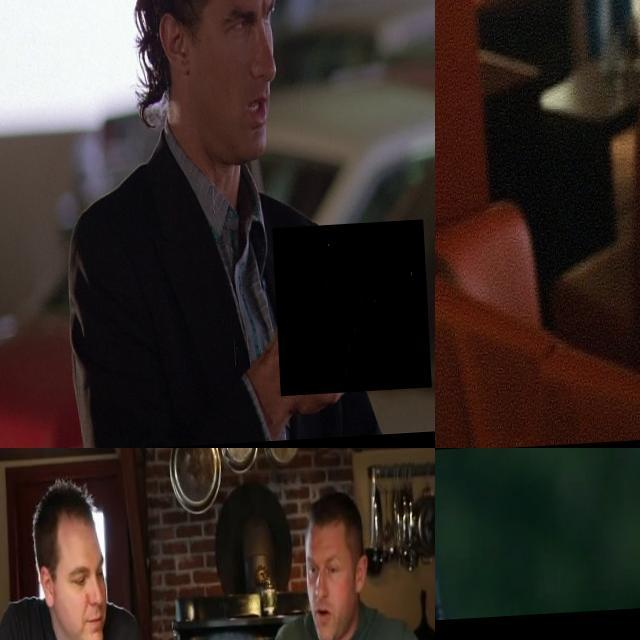gun-knife-thesis - v11 Yolov5 augmented: (268, 226, 426, 400), (435, 448, 578, 617)
